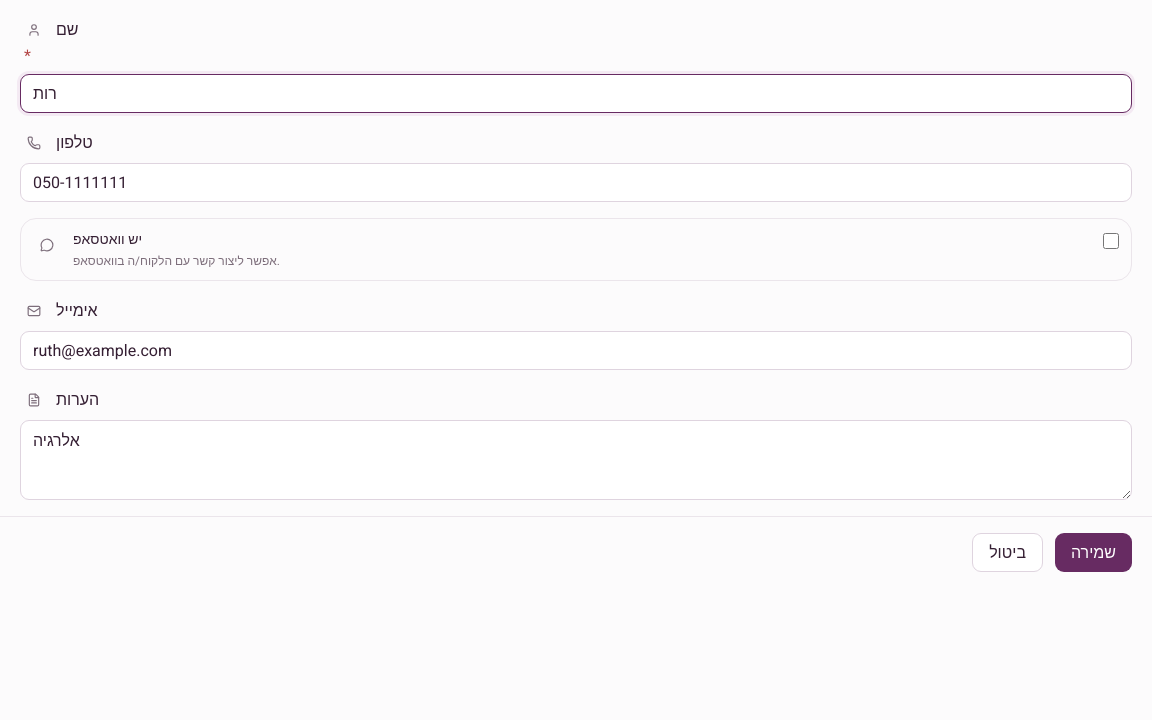
Test case: CustomerPanel › shows field errors and stays open on failure
The width and height of the screenshot is (1152, 720).
Click the button "שמירה".
click(1094, 553)  # box [1055, 533, 1132, 572]
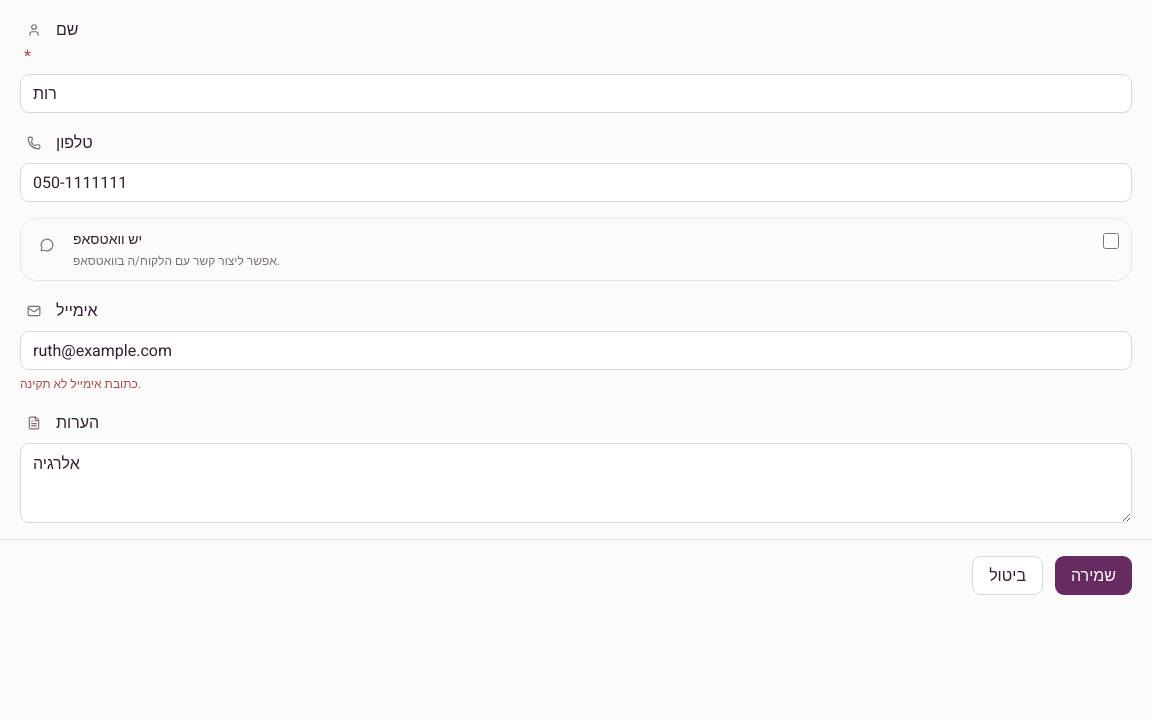
Expected: the text "כתובת אימייל לא תקינה." is shown, [20, 375, 141, 393]
